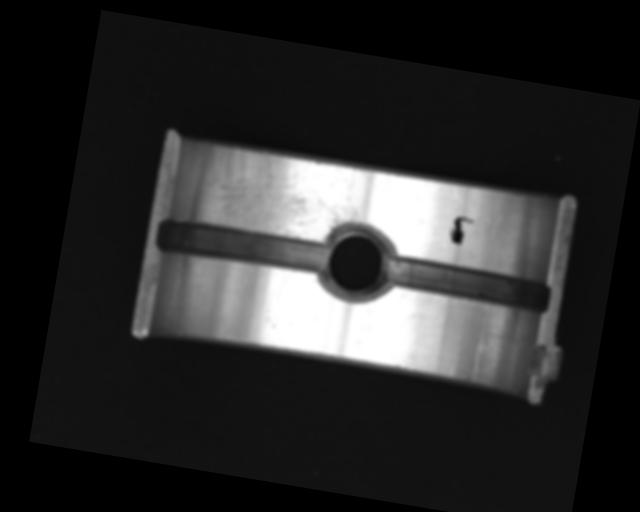blot: (447, 213, 474, 247)
gap: (154, 214, 330, 277), (384, 255, 552, 313)
hole: (316, 219, 400, 302)
nick: (469, 332, 487, 380)
scratch: (195, 144, 372, 249)
